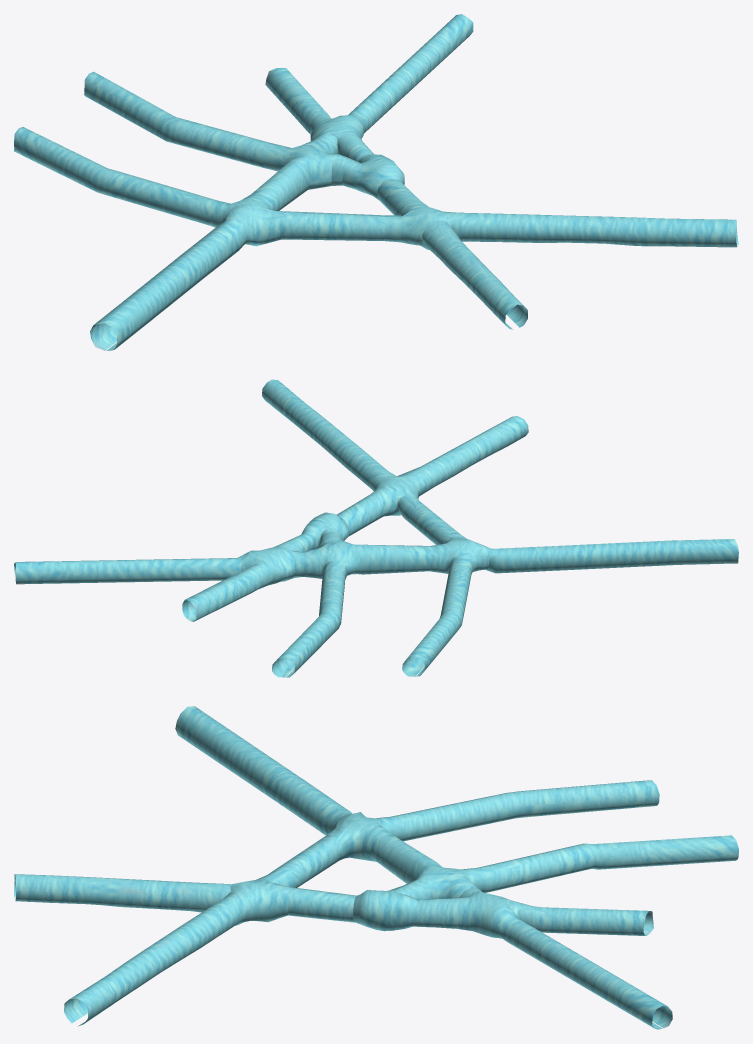
File: TransparentTunnel.fbx
The picture shows the model from 3 angles, top to bottom: view 1: azimuth 30°, elevation 25°; view 2: azimuth 150°, elevation 25°; view 3: azimuth 270°, elevation 25°; orthographic projection. The views are drawn at different scales.
Parts seen in each view (by area): view 1: TransparentTunnel; view 2: TransparentTunnel; view 3: TransparentTunnel.
Boxes of the visible parts, <box> form: TransparentTunnel: <box>14,14,738,350</box>; TransparentTunnel: <box>14,379,738,677</box>; TransparentTunnel: <box>14,706,738,1029</box>.
Bounding box in the file's own units: 175 × 10.34 × 175.
